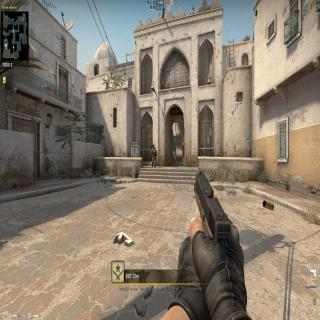CT-Head: (152, 143, 155, 149)
